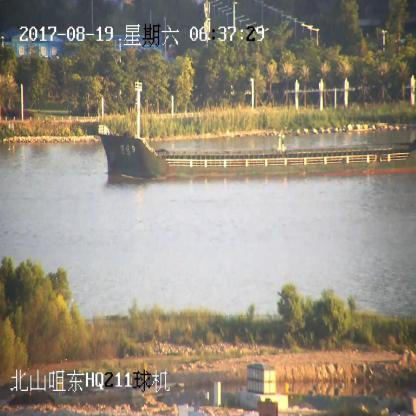Bulk Carrier: (97, 85, 416, 179)
